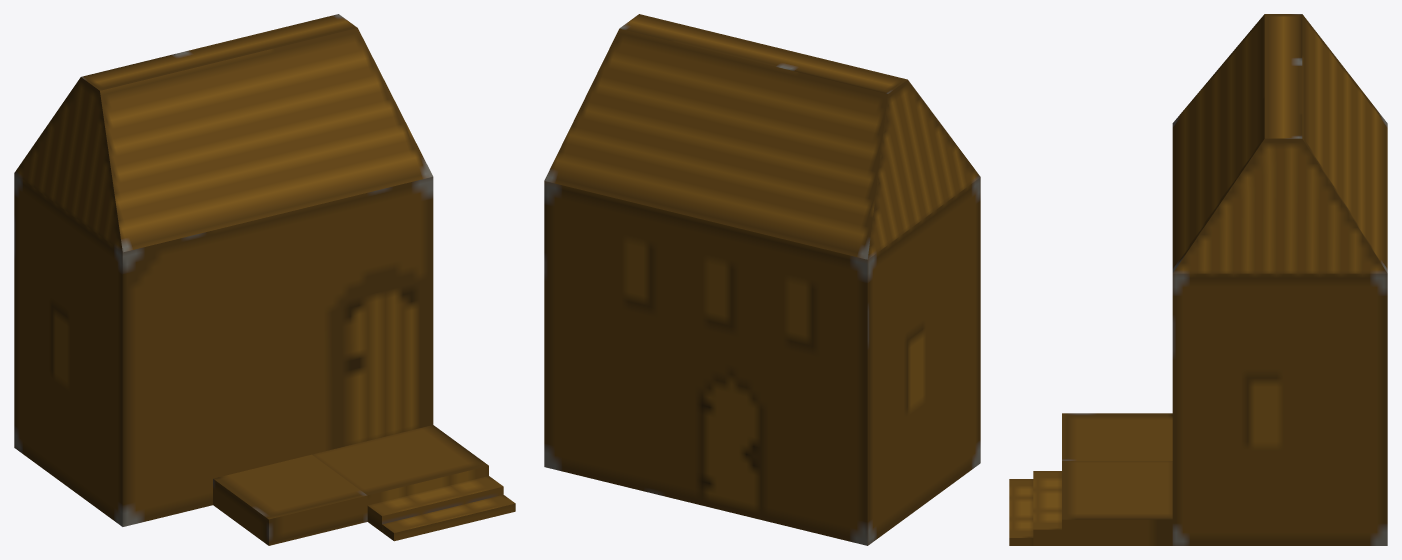
The model's file is farm_house.obj.
The picture shows the model from 3 angles, left to right: view 1: azimuth 30°, elevation 25°; view 2: azimuth 150°, elevation 25°; view 3: azimuth 270°, elevation 25°; orthographic projection. The views are drawn at different scales.
Parts seen in each view (by area): view 1: farm_Cube; view 2: farm_Cube; view 3: farm_Cube.
Part boxes in pixels (bbox=[...]): farm_Cube: bbox=[14, 14, 515, 545]; farm_Cube: bbox=[544, 14, 980, 545]; farm_Cube: bbox=[1009, 14, 1387, 545].
Size of the model in its own units: 2.37 by 2.89 by 2.52.
